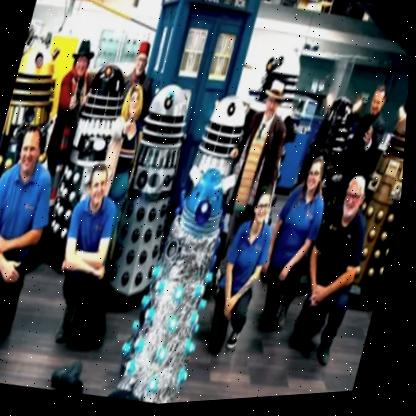dalek: (101, 156, 248, 407), (97, 70, 204, 314), (39, 53, 142, 252), (332, 98, 408, 334), (177, 86, 261, 211), (293, 84, 365, 199), (2, 36, 65, 137), (104, 76, 153, 163), (254, 43, 311, 96)
person: (35, 153, 135, 354), (286, 167, 380, 368), (250, 140, 335, 342), (198, 170, 287, 362), (0, 113, 68, 362), (232, 66, 312, 197), (43, 36, 102, 167), (341, 77, 398, 177), (120, 34, 161, 93)
